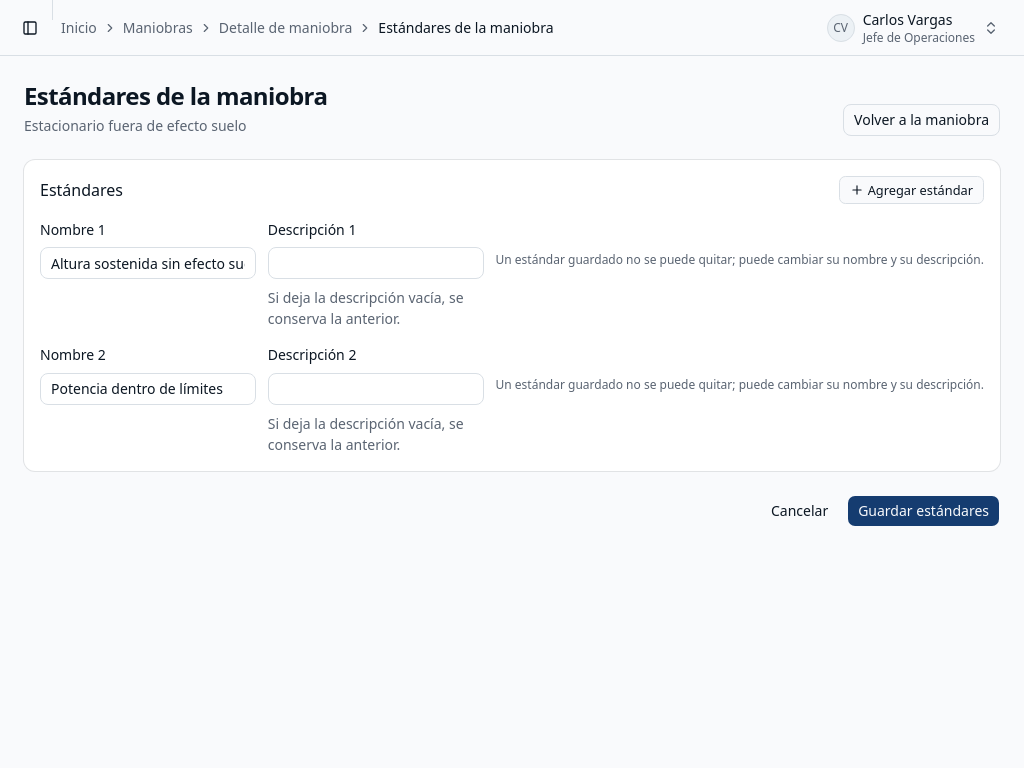
Test: Estándares de la maniobra › CA-EST-04 el error de lista vacía aparece sobre la lista y los de cada fila bajo su campo
This screenshot has width=1024, height=768.
Expected: the heading "Estándares de la maniobra" is shown, left=24, top=80, right=327, bottom=112
Click the button "Guardar estándares". click: (924, 510)
box: left=847, top=494, right=1000, bottom=526
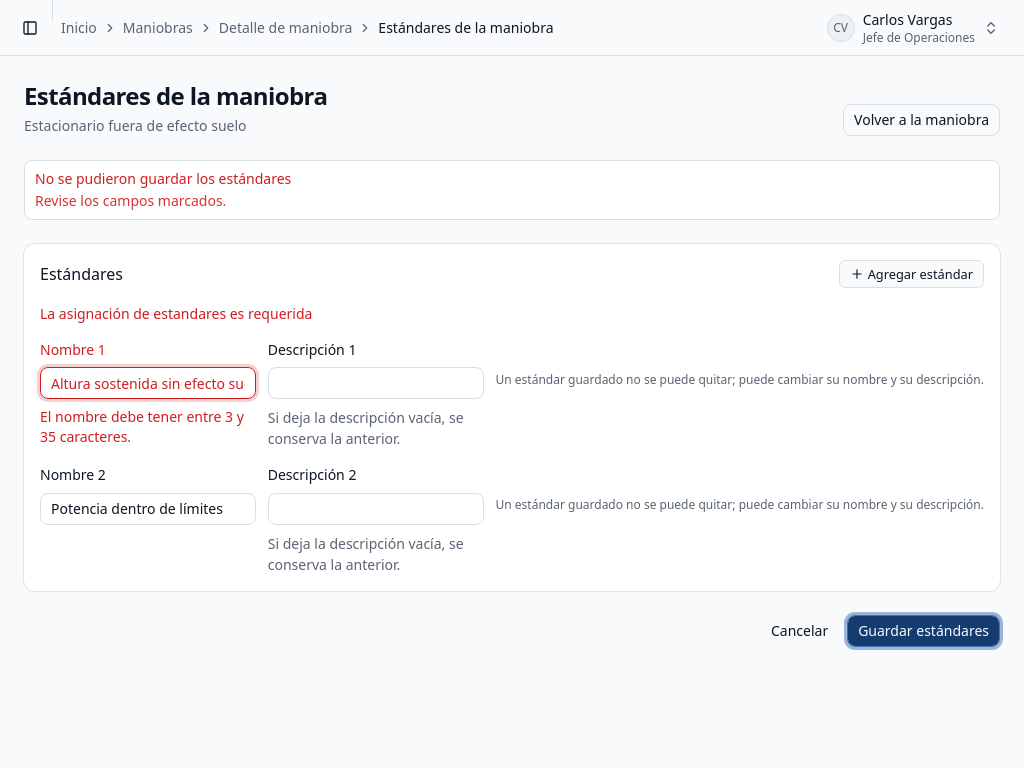
Result: the text "La asignación de estandares es requerida" is shown at left=40, top=304, right=312, bottom=323
Result: the text "El nombre debe tener entre 3 y 35 caracteres." is shown at left=40, top=407, right=256, bottom=447
